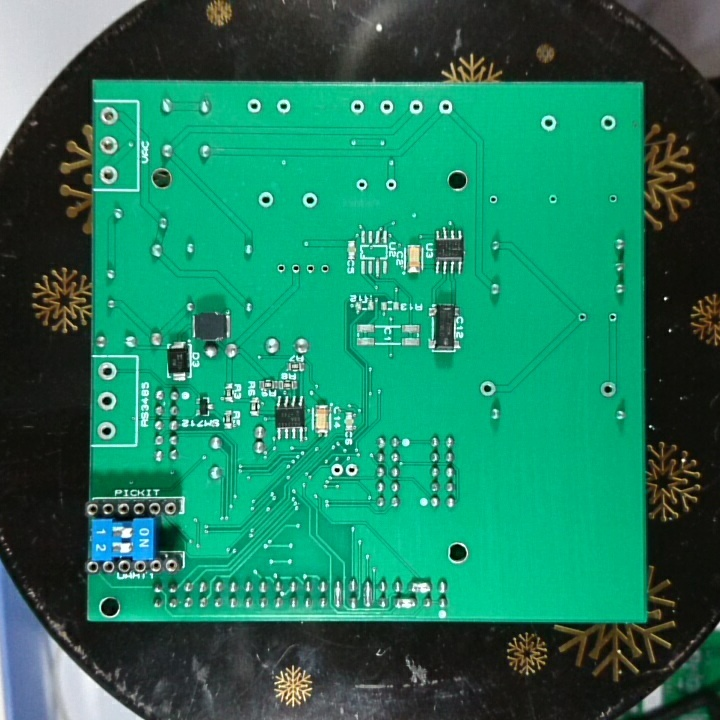F: (97, 132, 122, 157), (95, 359, 121, 383), (97, 103, 122, 127), (95, 388, 119, 412), (94, 420, 119, 443), (299, 188, 322, 212), (97, 163, 121, 186), (597, 377, 618, 401), (538, 111, 559, 135), (255, 189, 278, 210), (435, 96, 456, 118), (477, 377, 497, 400), (347, 97, 368, 118), (377, 97, 397, 118), (245, 96, 265, 116), (599, 112, 618, 133), (274, 97, 293, 117), (353, 175, 371, 194), (406, 98, 426, 115), (317, 258, 334, 278), (328, 460, 345, 480), (604, 190, 622, 207), (382, 175, 400, 192), (272, 260, 289, 278), (486, 190, 502, 209), (344, 460, 360, 479), (573, 308, 590, 325), (545, 190, 561, 207), (605, 308, 619, 327), (304, 259, 318, 278), (289, 259, 303, 277)
P: (360, 575, 374, 609), (406, 578, 434, 594), (391, 594, 419, 610), (331, 577, 345, 609)
